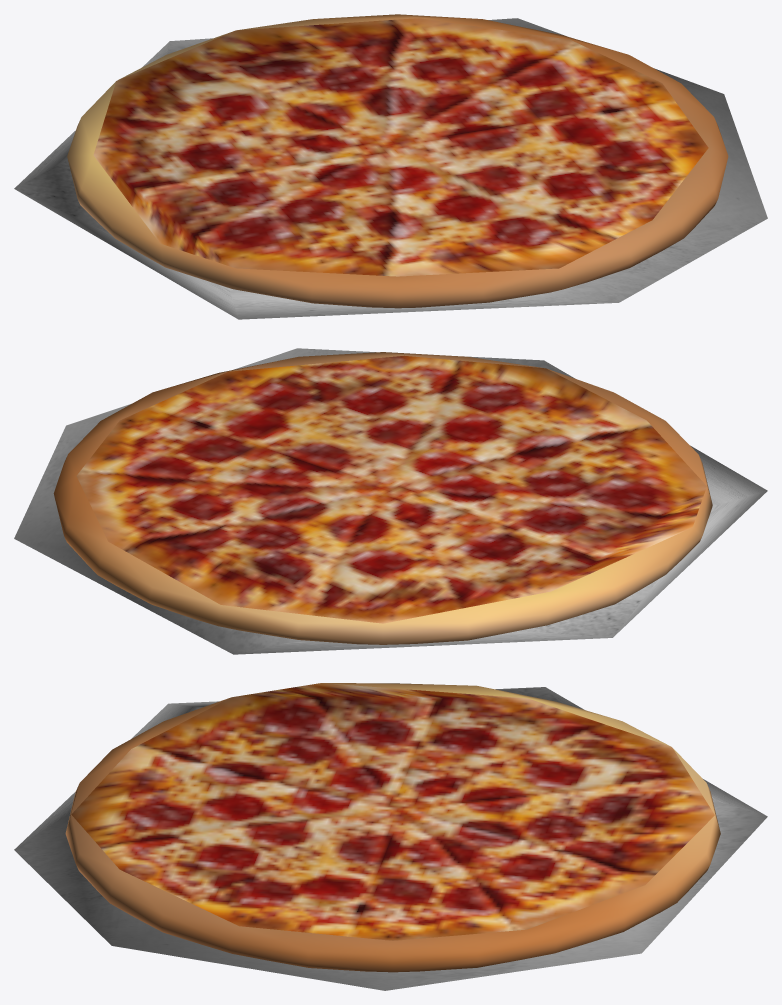
File: pizza.obj
The picture shows the model from 3 angles, top to bottom: view 1: azimuth 30°, elevation 25°; view 2: azimuth 150°, elevation 25°; view 3: azimuth 270°, elevation 25°; orthographic projection.
Visible parts, largest first — view 1: Cylinder.005; view 2: Cylinder.005; view 3: Cylinder.005.
Boxes of the visible parts, x1,y1,x2,y2 form: Cylinder.005: (14, 14, 767, 319); Cylinder.005: (14, 348, 767, 654); Cylinder.005: (14, 683, 767, 990).
Size of the model in its own units: 0.6135 by 0.0282 by 0.6424.
2 materials, 2 textured.
